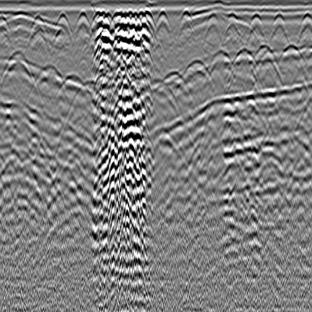hyperbola: (2, 47, 43, 97), (25, 62, 68, 105), (55, 69, 90, 102), (203, 46, 236, 78), (155, 67, 189, 95), (180, 57, 211, 85), (275, 41, 306, 68), (229, 47, 258, 74), (251, 43, 279, 69), (26, 13, 46, 41), (51, 9, 72, 33), (244, 12, 266, 34), (267, 13, 288, 35), (203, 12, 223, 35), (72, 11, 90, 35), (154, 9, 170, 32), (177, 10, 193, 29), (223, 13, 239, 30), (300, 10, 312, 29), (0, 16, 12, 32)
